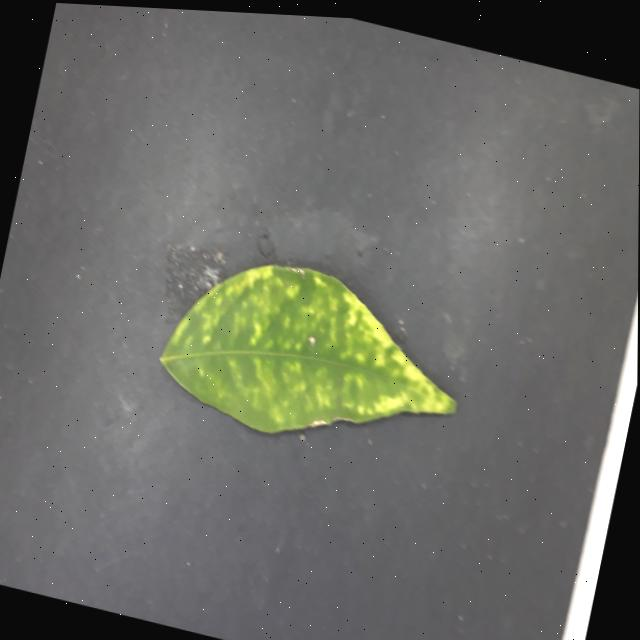greening: (160, 265, 457, 433)
